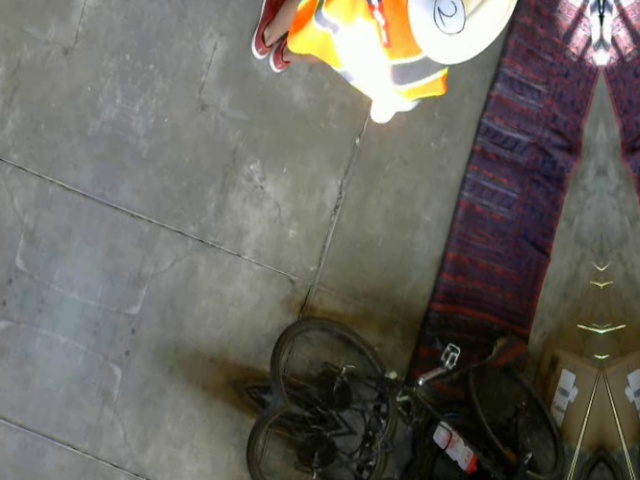two: (427, 0, 472, 40)
